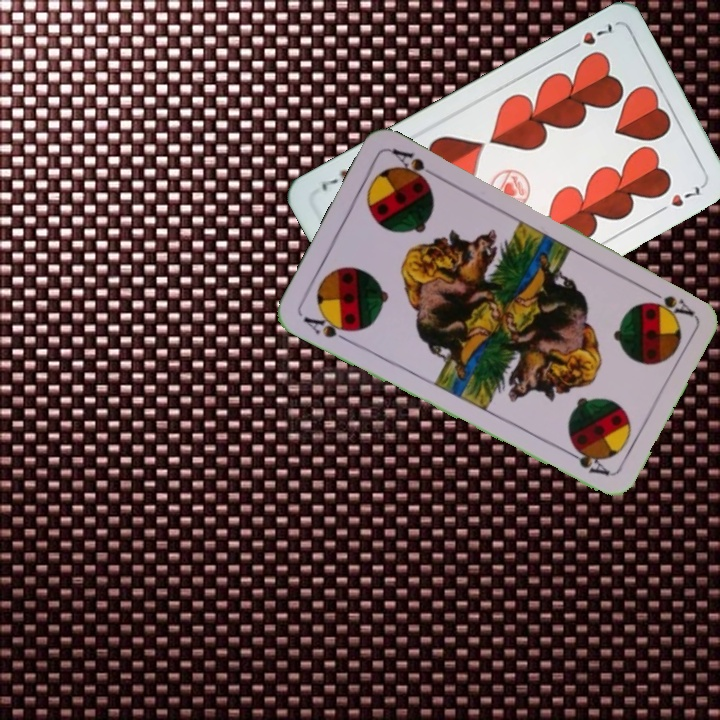H7: (563, 19, 615, 55)
SA: (299, 309, 358, 345), (641, 283, 696, 318)
